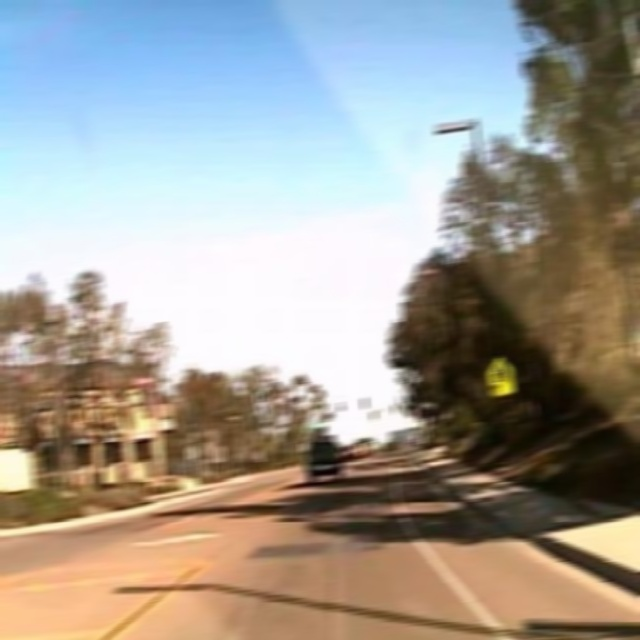school: (488, 354, 510, 384)
